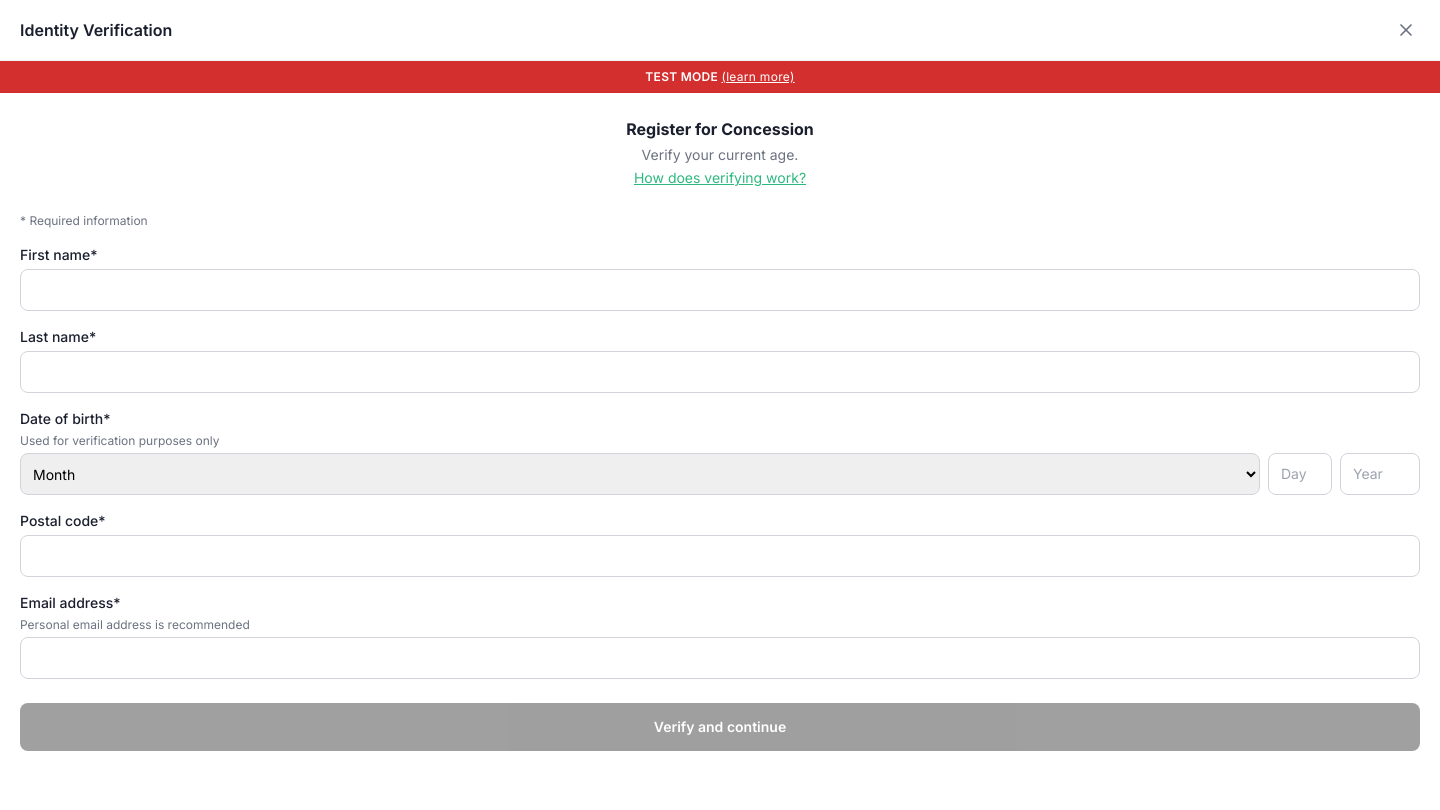
Test: SheerIDModal › "Verify and continue" enabled when all required fields filled
In the field labelled "First name*": (720, 290) x1=20 y1=269 x2=1420 y2=311, type "John"
In the field labelled "Last name*": (720, 372) x1=20 y1=351 x2=1420 y2=393, type "Smith"
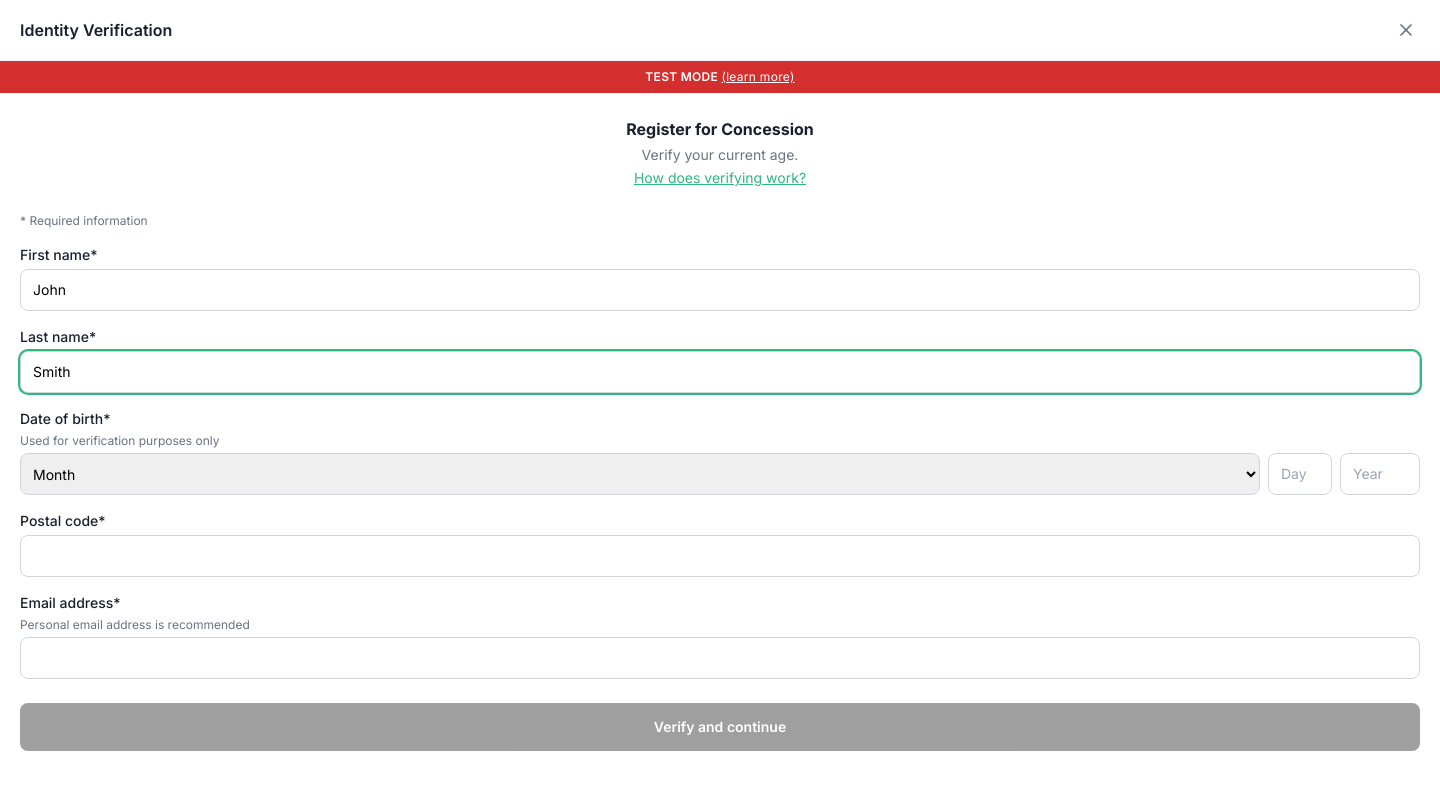
Select "January" in the dropdown named "month": (640, 474) x1=20 y1=453 x2=1260 y2=495
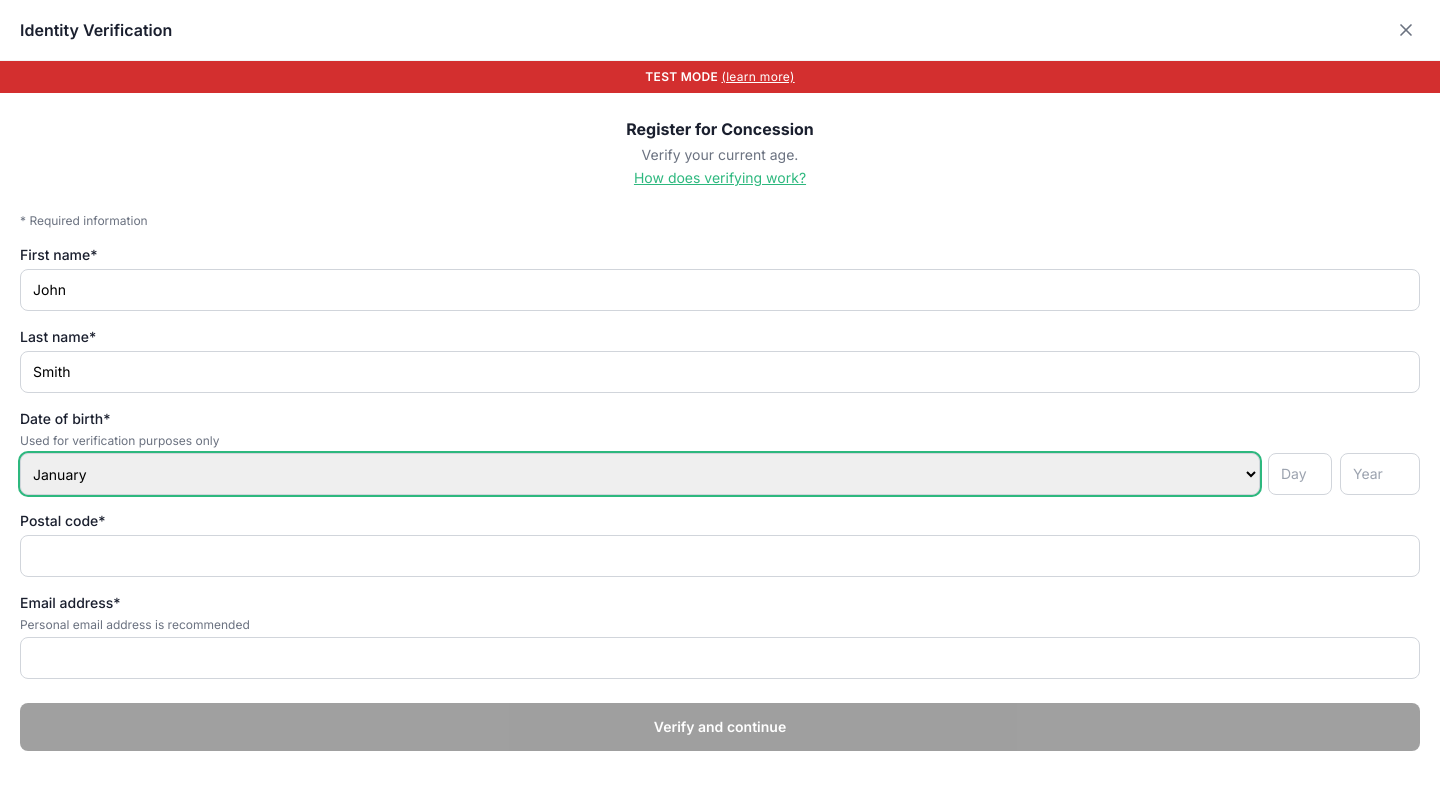
In the field labelled "Day": (1300, 474) x1=1268 y1=453 x2=1332 y2=495, type "15"
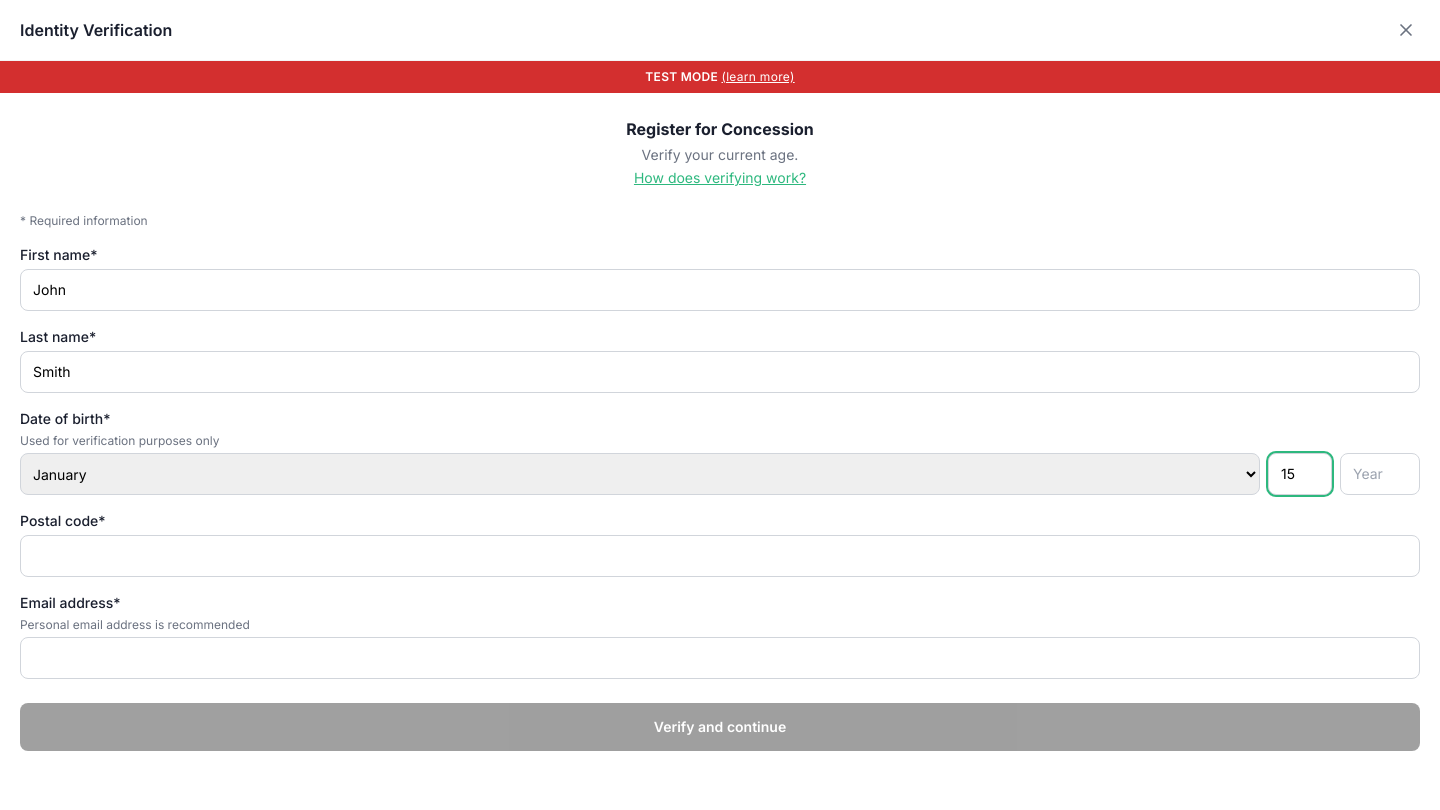
In the field labelled "Year": (1380, 474) x1=1340 y1=453 x2=1420 y2=495, type "1990"
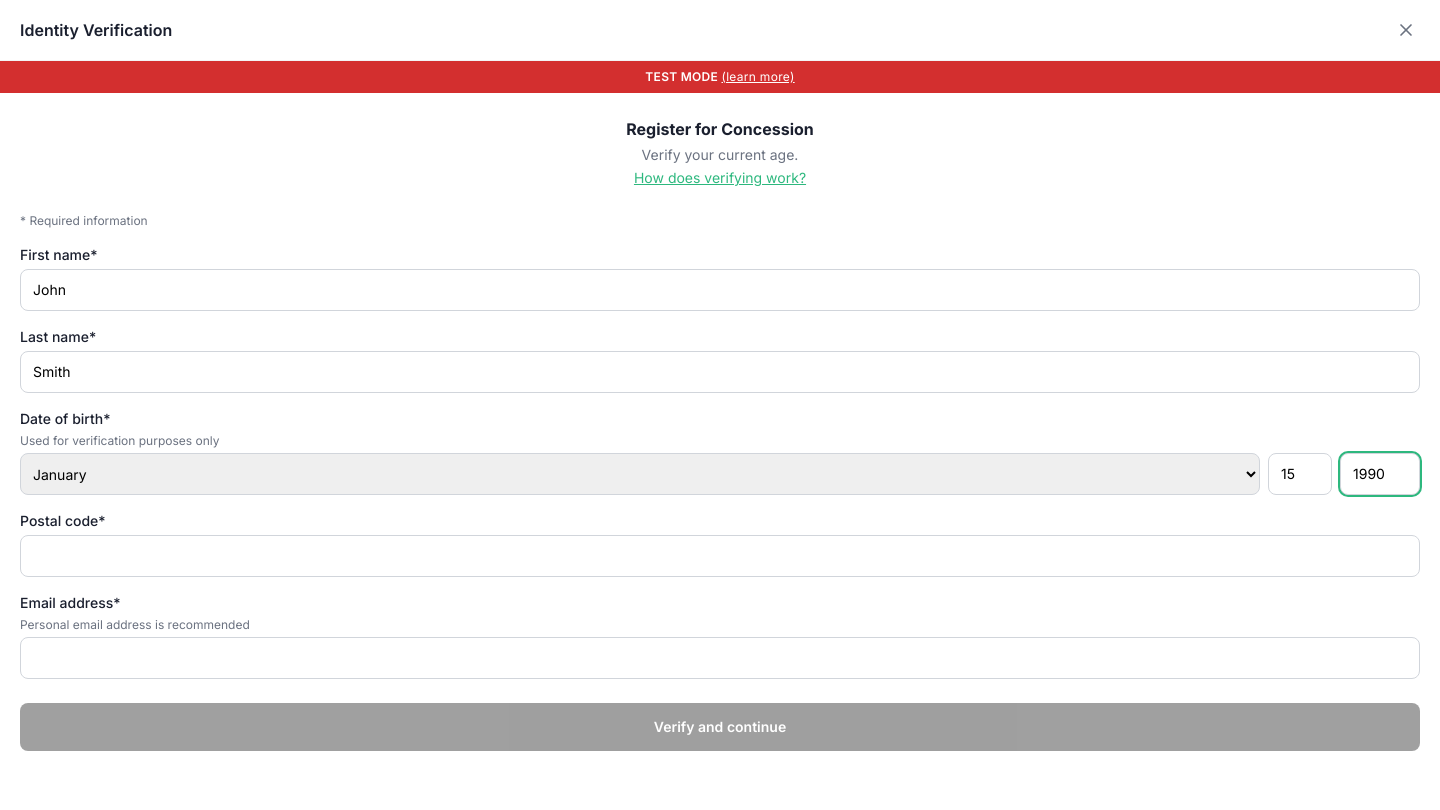
In the field labelled "Postal code*": (720, 556) x1=20 y1=535 x2=1420 y2=577, type "SW1A 1AA"
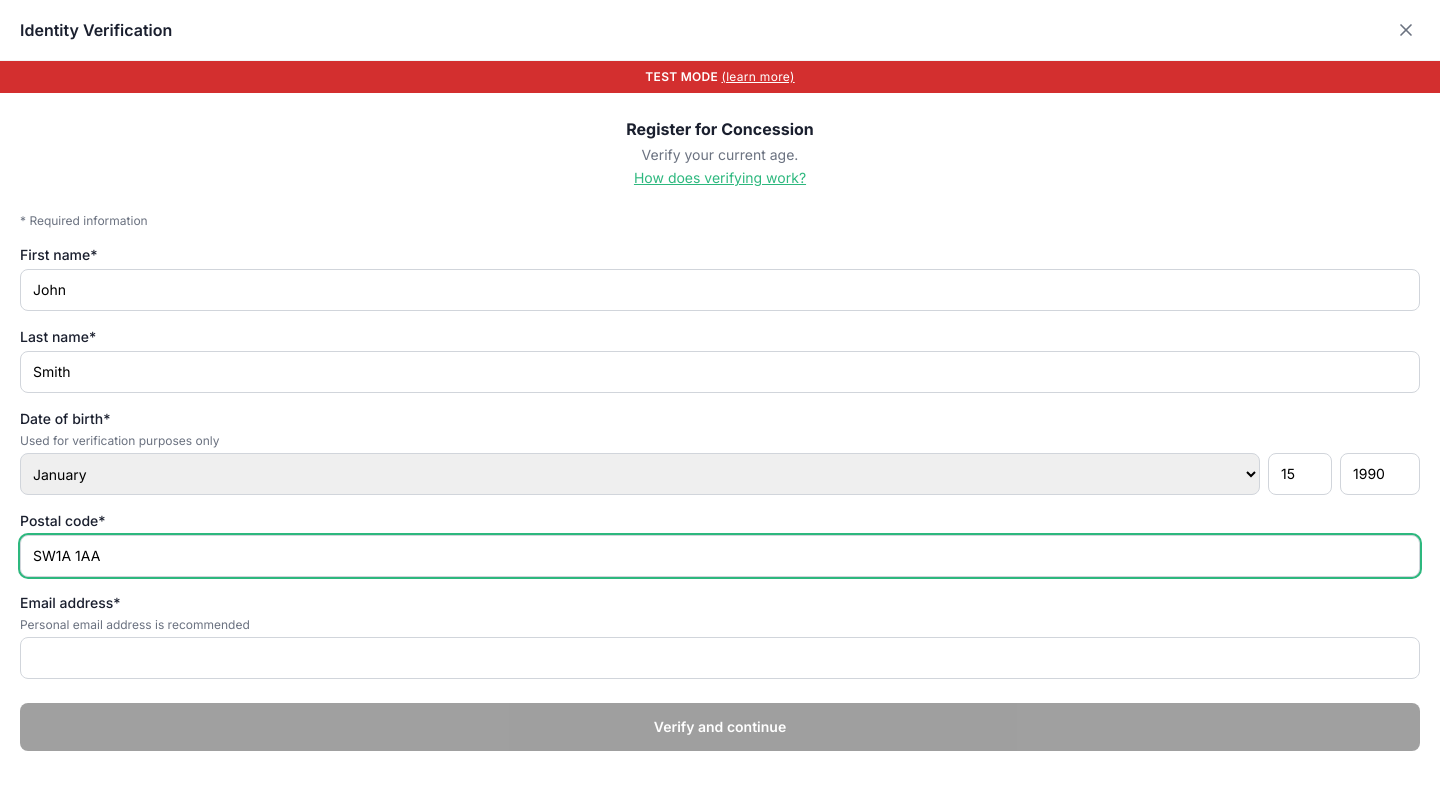
In the field labelled "Email address*": (720, 658) x1=20 y1=637 x2=1420 y2=679, type "john@example.com"
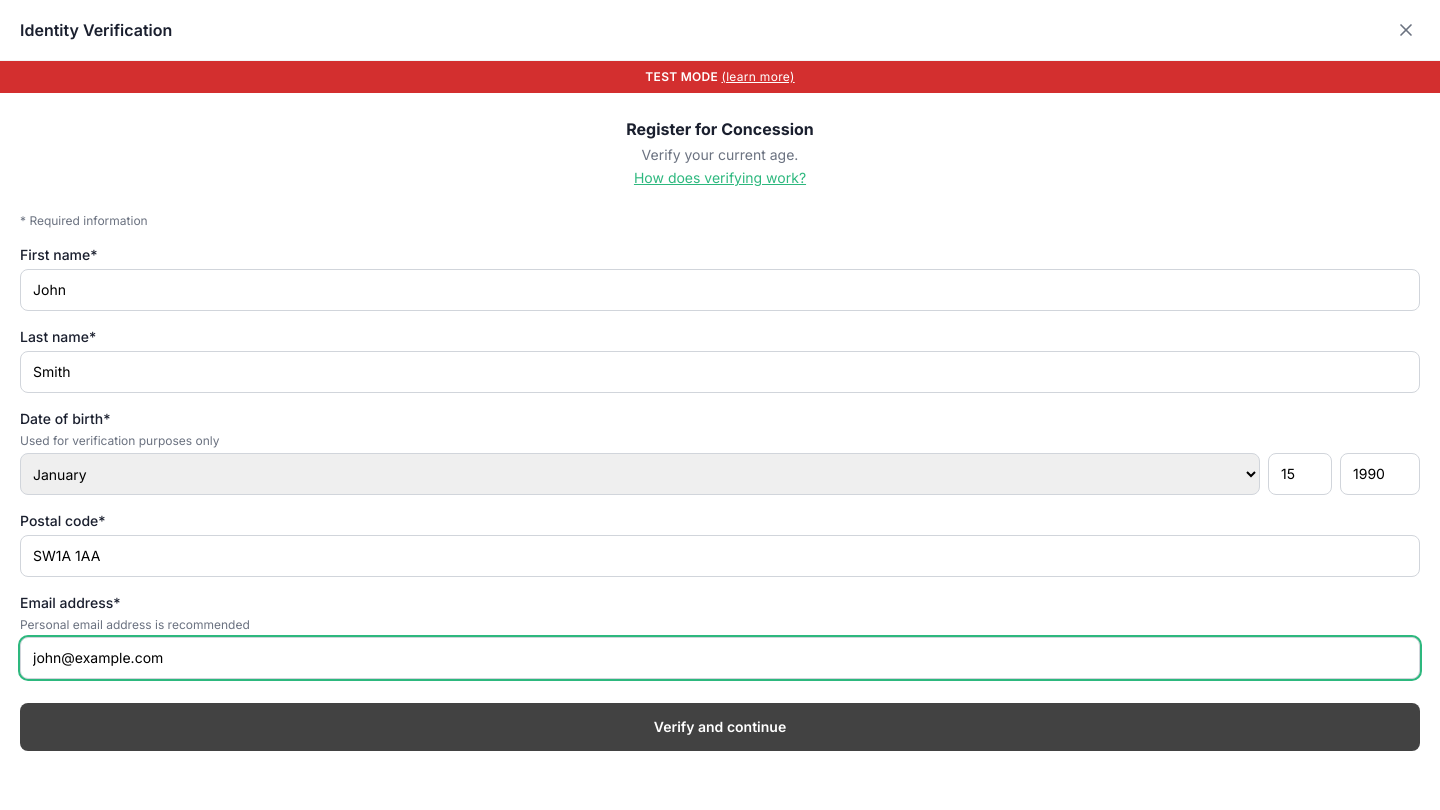
Result: the button "Verify and continue" is enabled at x1=20 y1=703 x2=1420 y2=751
